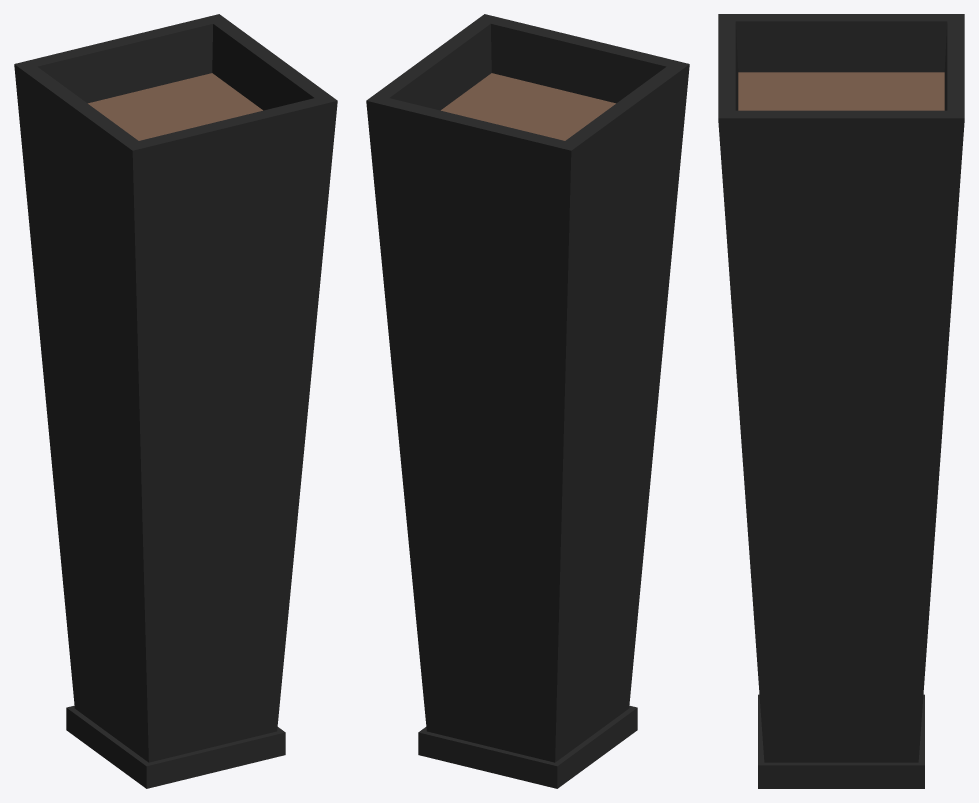
Rendered from LongPlantPotBlack.fbx.
The picture shows the model from 3 angles, left to right: view 1: azimuth 30°, elevation 25°; view 2: azimuth 150°, elevation 25°; view 3: azimuth 270°, elevation 25°; orthographic projection. The views are drawn at different scales.
Parts seen in each view (by area): view 1: pCube81; view 2: pCube81; view 3: pCube81.
Boxes of the visible parts, x1,y1,x2,y2 form: pCube81: (14,14,337,788); pCube81: (366,14,689,788); pCube81: (718,14,964,788).
Bounding box in the file's own units: 0.4439 × 1.37 × 0.4439.
